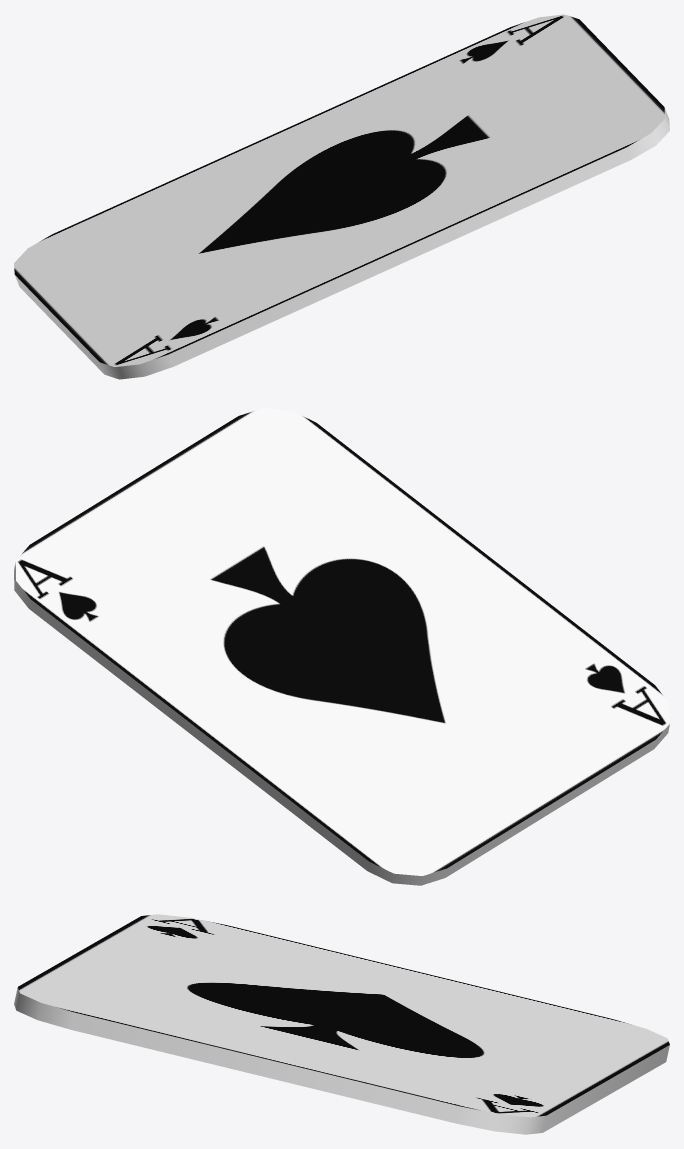
File: AceAnim.fbx
The picture shows the model from 3 angles, top to bottom: view 1: azimuth 30°, elevation 25°; view 2: azimuth 150°, elevation 25°; view 3: azimuth 270°, elevation 25°; orthographic projection. The views are drawn at different scales.
Visible parts, largest first — view 1: Plane; view 2: Plane; view 3: Plane.
Part boxes in pixels (bbox=[...]): Plane: bbox=[14, 14, 669, 379]; Plane: bbox=[14, 408, 669, 885]; Plane: bbox=[14, 914, 669, 1134].
Bounding box in the file's own units: 16.68 × 6.45 × 13.08.
